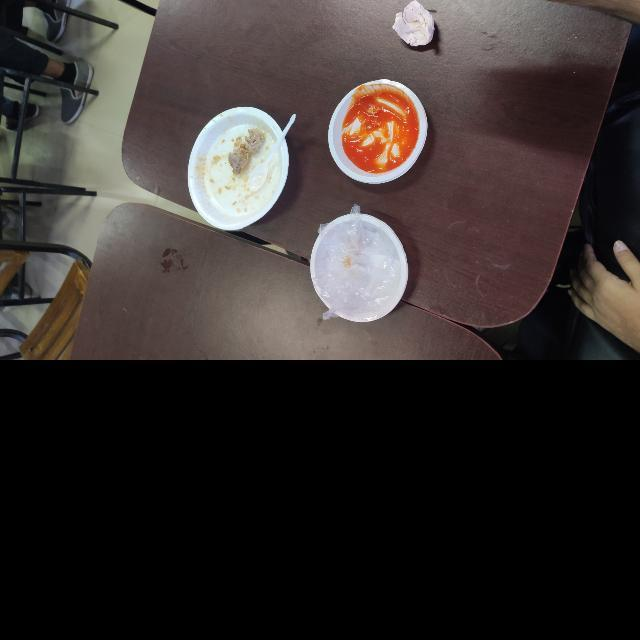kitchen paper: (385, 0, 447, 50)
